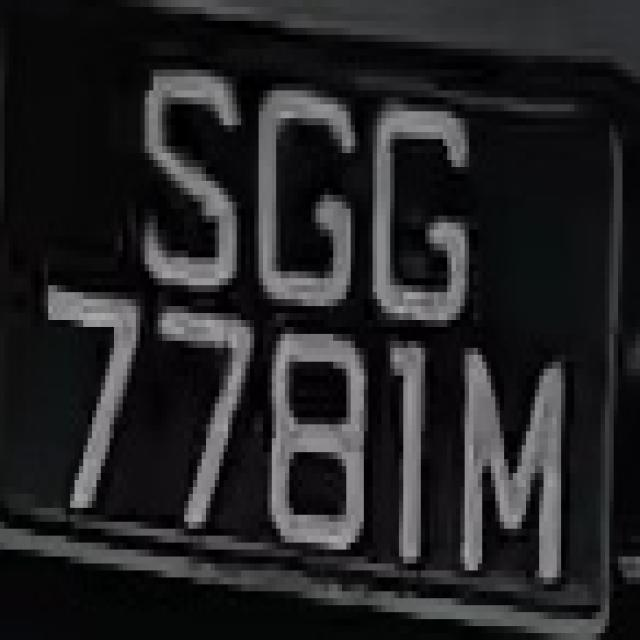1: (364, 313, 443, 591)
7: (26, 264, 136, 529), (149, 264, 254, 536)
8: (263, 306, 373, 550)
G: (364, 69, 486, 334), (246, 63, 360, 334)
M: (438, 327, 583, 612)
S: (136, 49, 245, 292)
